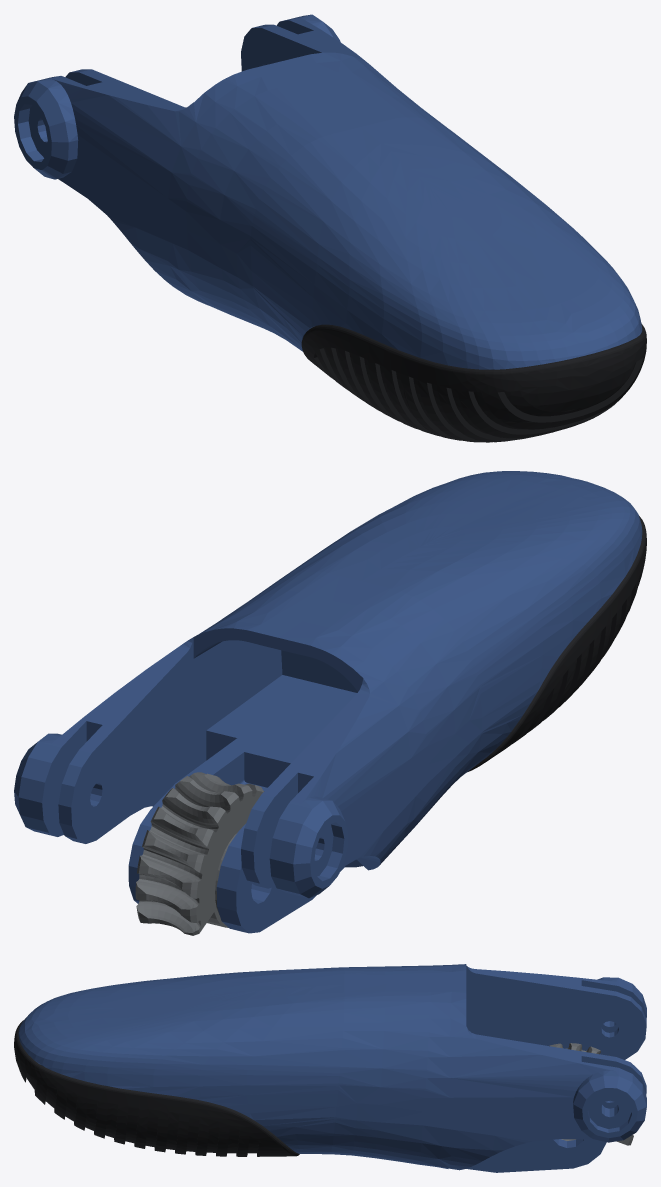
The model's file is rh_thumb_distal_vis.obj.
The picture shows the model from 3 angles, top to bottom: view 1: azimuth 30°, elevation 25°; view 2: azimuth 150°, elevation 25°; view 3: azimuth 270°, elevation 25°; orthographic projection. The views are drawn at different scales.
Parts seen in each view (by area): view 1: rh_thumb_distal; view 2: rh_thumb_distal; view 3: rh_thumb_distal.
Part boxes in pixels (x1,y1,x2,y2): rh_thumb_distal: (14,14,646,442); rh_thumb_distal: (14,471,646,935); rh_thumb_distal: (14,964,646,1172).
Size of the model in its own units: 0.022 by 0.0166 by 0.0554.
1 material, 1 textured.
